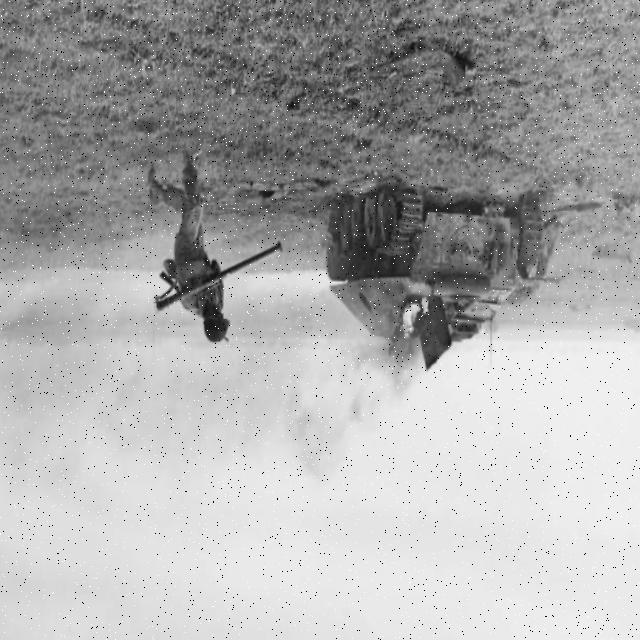bazooka: (134, 223, 301, 339)
